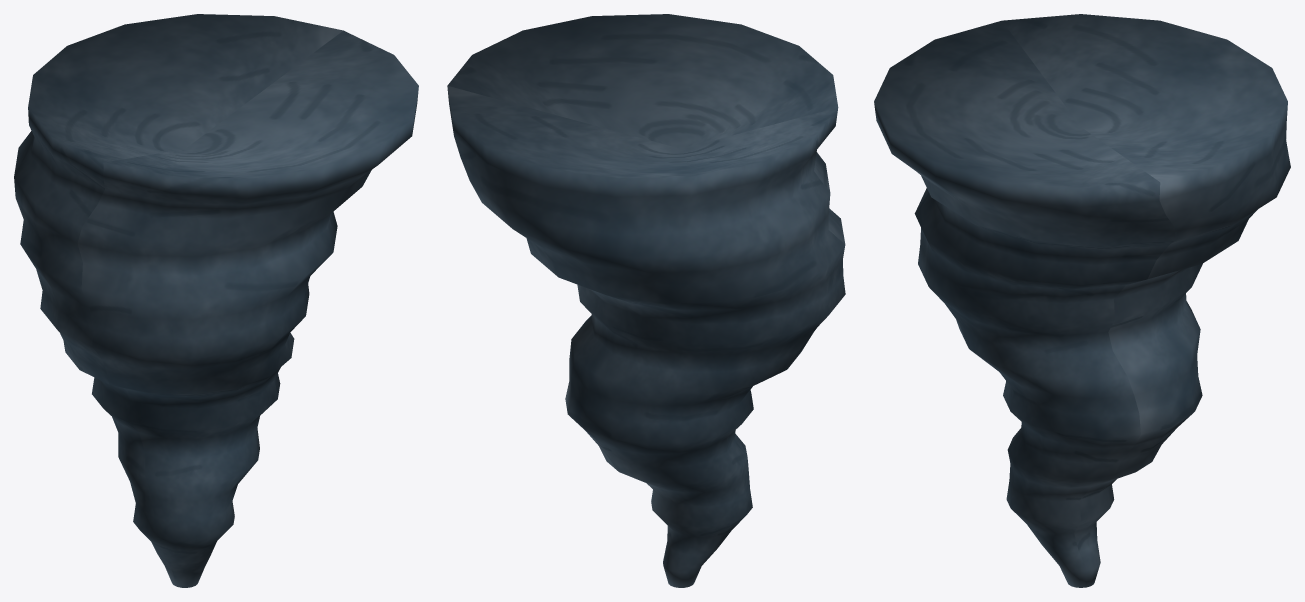
The model's file is Tornado.fbx.
The picture shows the model from 3 angles, left to right: view 1: azimuth 30°, elevation 25°; view 2: azimuth 150°, elevation 25°; view 3: azimuth 270°, elevation 25°; orthographic projection. The views are drawn at different scales.
Visible parts, largest first — view 1: Tornado; view 2: Tornado; view 3: Tornado.
Boxes of the visible parts, bbox=[...] form: Tornado: bbox=[14, 14, 418, 587]; Tornado: bbox=[447, 14, 845, 587]; Tornado: bbox=[874, 14, 1290, 587].
Size of the model in its own units: 311 by 400 by 302.
